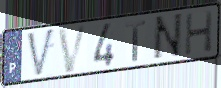4: (92, 20, 116, 69)
H: (183, 9, 215, 58)
N: (151, 12, 184, 63)
T: (124, 18, 147, 63)
V: (56, 23, 90, 75), (26, 26, 57, 79)
